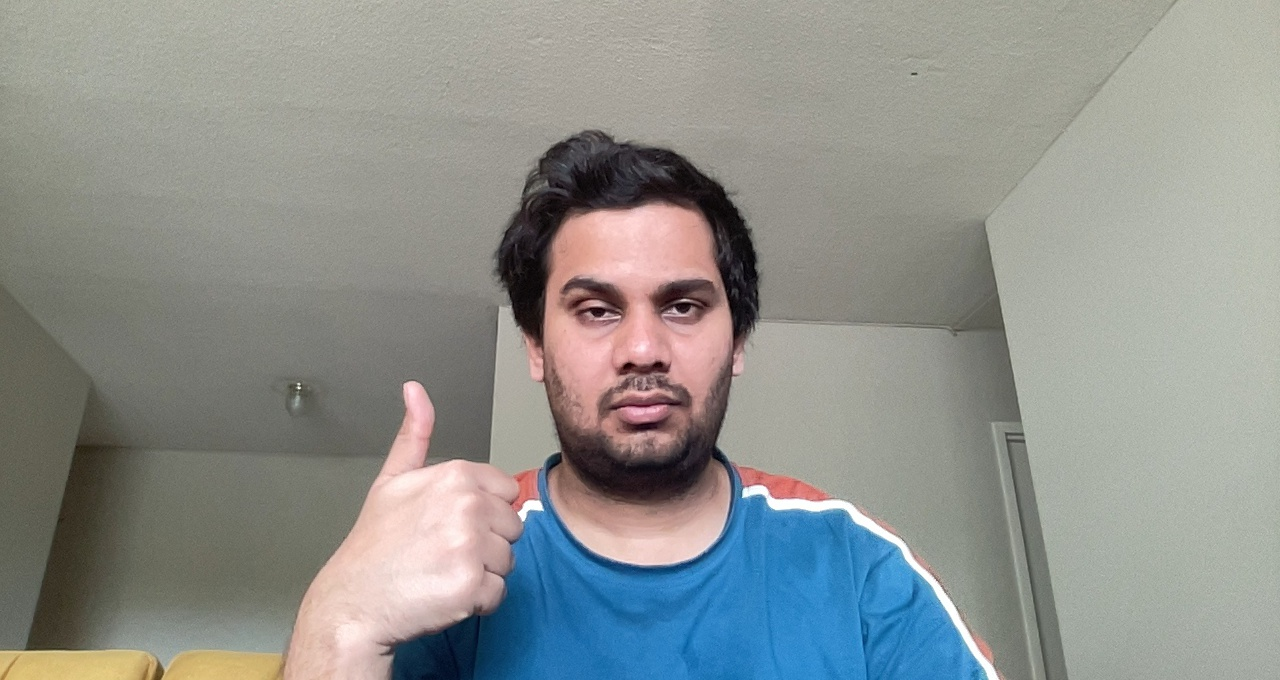thumbsup: (322, 373, 532, 647)
